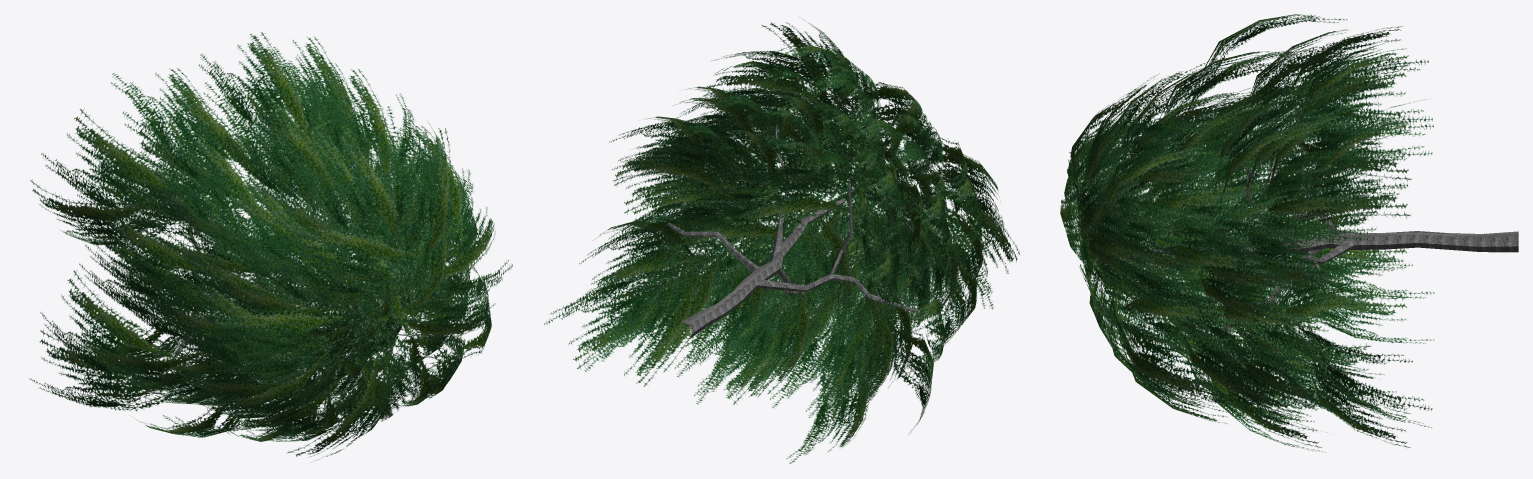
Rendered from liushu01.gltf.
The picture shows the model from 3 angles, left to right: view 1: azimuth 30°, elevation 25°; view 2: azimuth 150°, elevation 25°; view 3: azimuth 270°, elevation 25°; orthographic projection. The views are drawn at different scales.
Parts seen in each view (by area): view 1: Group_MatrixTransform_liushu01_Geometry_0, Group_MatrixTransform_liushu01_Geometry_1; view 2: Group_MatrixTransform_liushu01_Geometry_0, Group_MatrixTransform_liushu01_Geometry_1; view 3: Group_MatrixTransform_liushu01_Geometry_0, Group_MatrixTransform_liushu01_Geometry_1.
Boxes of the visible parts, bbox=[...] form: Group_MatrixTransform_liushu01_Geometry_0: bbox=[29, 32, 512, 460]; Group_MatrixTransform_liushu01_Geometry_1: bbox=[149, 178, 358, 379]; Group_MatrixTransform_liushu01_Geometry_0: bbox=[544, 20, 1019, 463]; Group_MatrixTransform_liushu01_Geometry_1: bbox=[667, 124, 918, 338]; Group_MatrixTransform_liushu01_Geometry_0: bbox=[1060, 14, 1434, 452]; Group_MatrixTransform_liushu01_Geometry_1: bbox=[1145, 108, 1518, 353].
Bounding box in the file's own units: 6.72 × 6.69 × 6.85.
2 materials, 2 textured.
